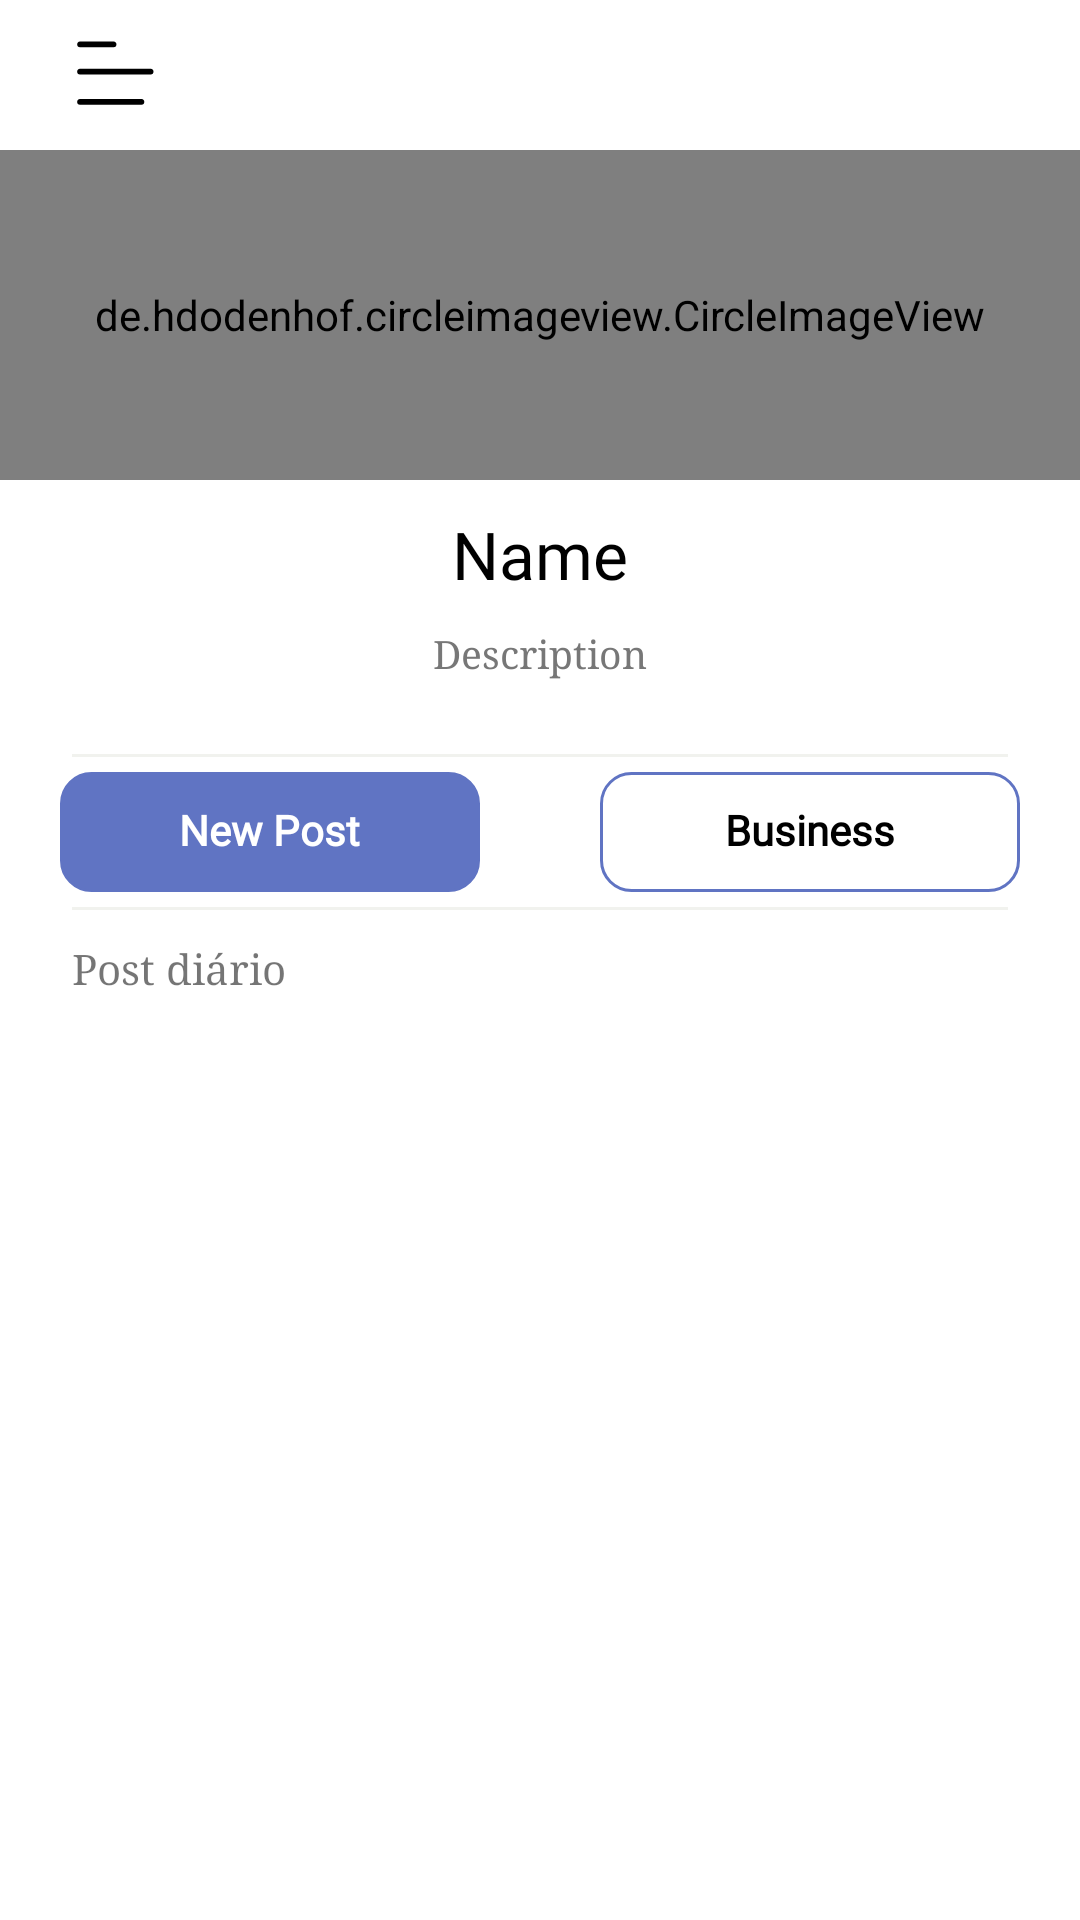

Named icons in this screenshot (1080px x 1920px) and their centers, [x,y]:
menu: [115,73]
